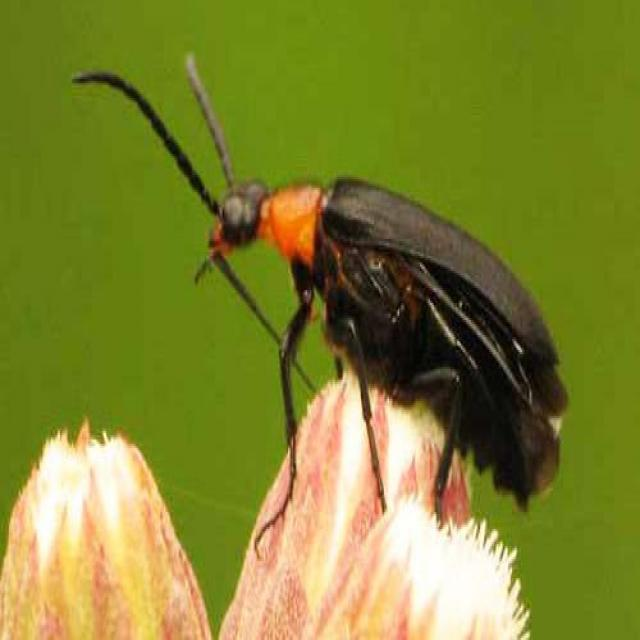BlisterBeetle-Adult-: (72, 50, 573, 524)
